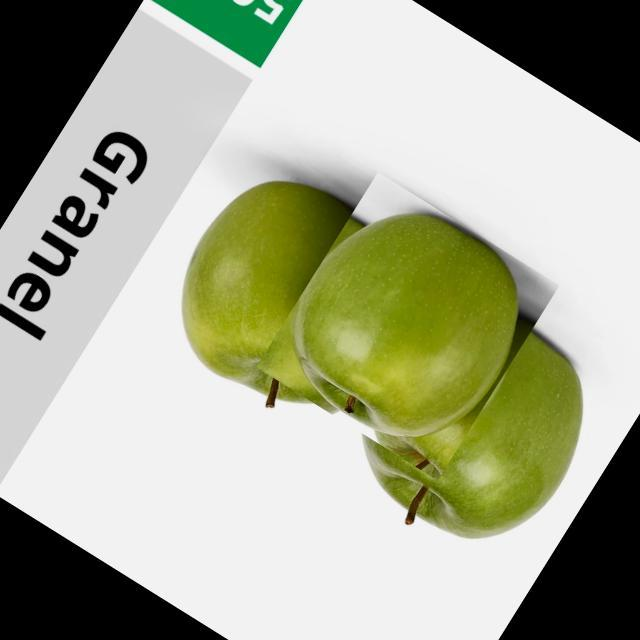Green Apple: (292, 213, 520, 438), (182, 180, 364, 408), (257, 215, 367, 414), (403, 315, 536, 472), (257, 307, 346, 415)
Red Apple: (362, 320, 584, 540)
